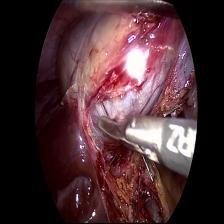Scissors: (95, 106, 163, 160)
